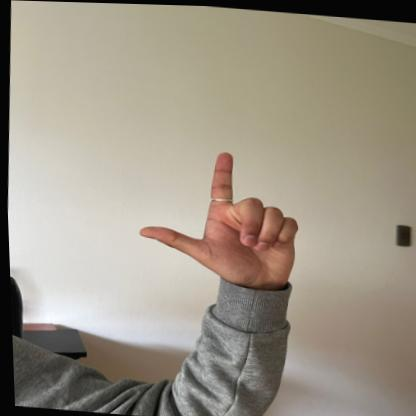L: (129, 140, 307, 288)
